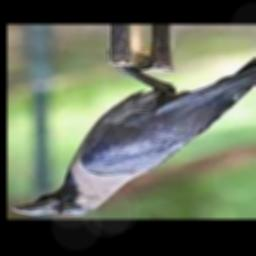Crow: (9, 28, 256, 216)
